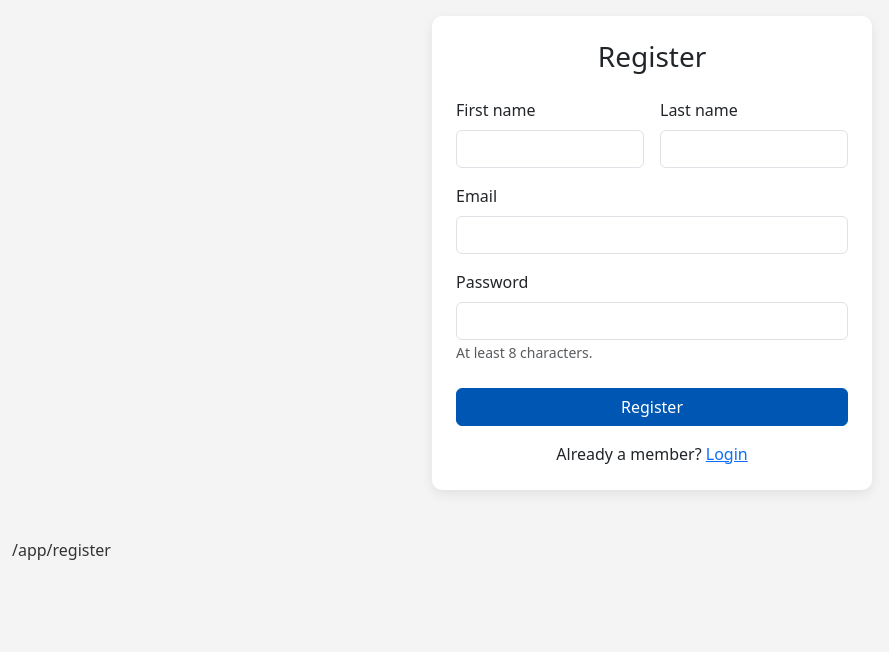
Test: <RegisterPage /> › shows field errors for an empty form
Click the button "Register". click: coordinates (652, 407)
box: left=456, top=388, right=848, bottom=426
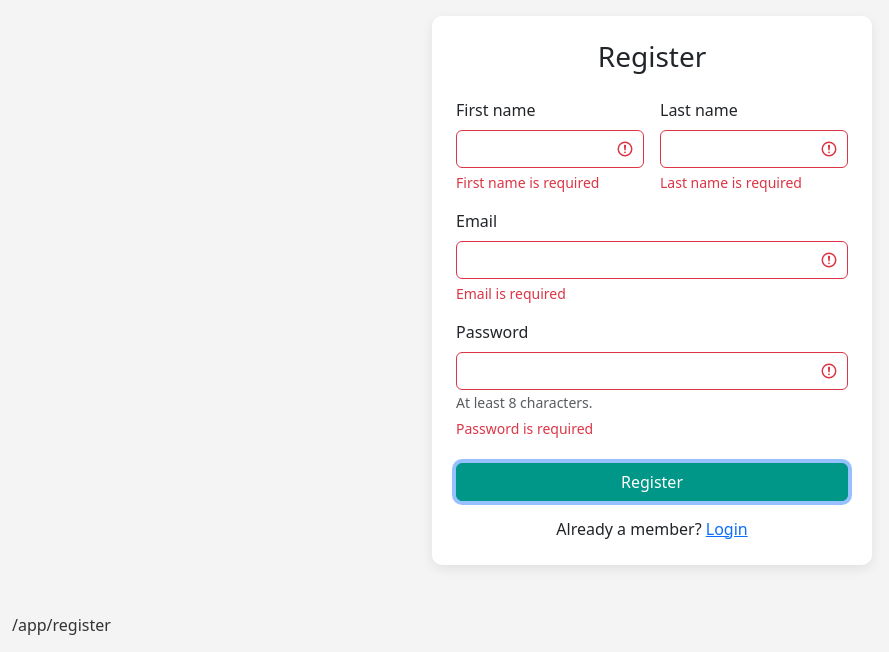
Expected: the text "First name is required" is shown, left=456, top=173, right=599, bottom=192
Expected: the text "Last name is required" is shown, left=660, top=173, right=802, bottom=192
Expected: the text "Email is required" is shown, left=456, top=284, right=566, bottom=303
